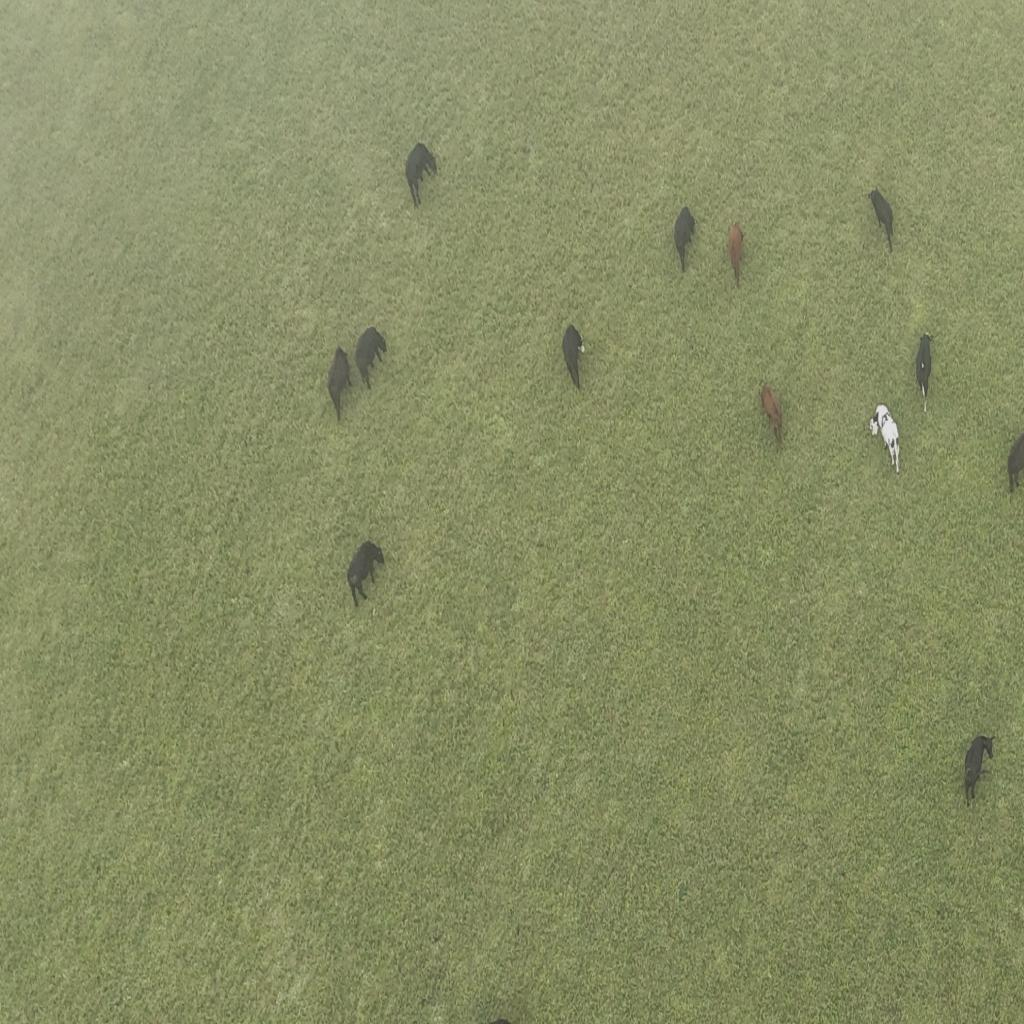cow: (342, 537, 386, 608), (960, 731, 996, 808), (868, 402, 902, 478), (403, 138, 439, 208), (353, 325, 391, 388), (560, 316, 588, 396), (328, 344, 354, 426), (758, 378, 786, 454), (674, 203, 698, 276), (996, 423, 1020, 494), (914, 326, 934, 410), (868, 187, 894, 251), (726, 212, 746, 288)
